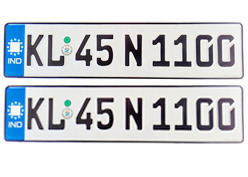inlp: (1, 17, 247, 81), (2, 83, 248, 146)
